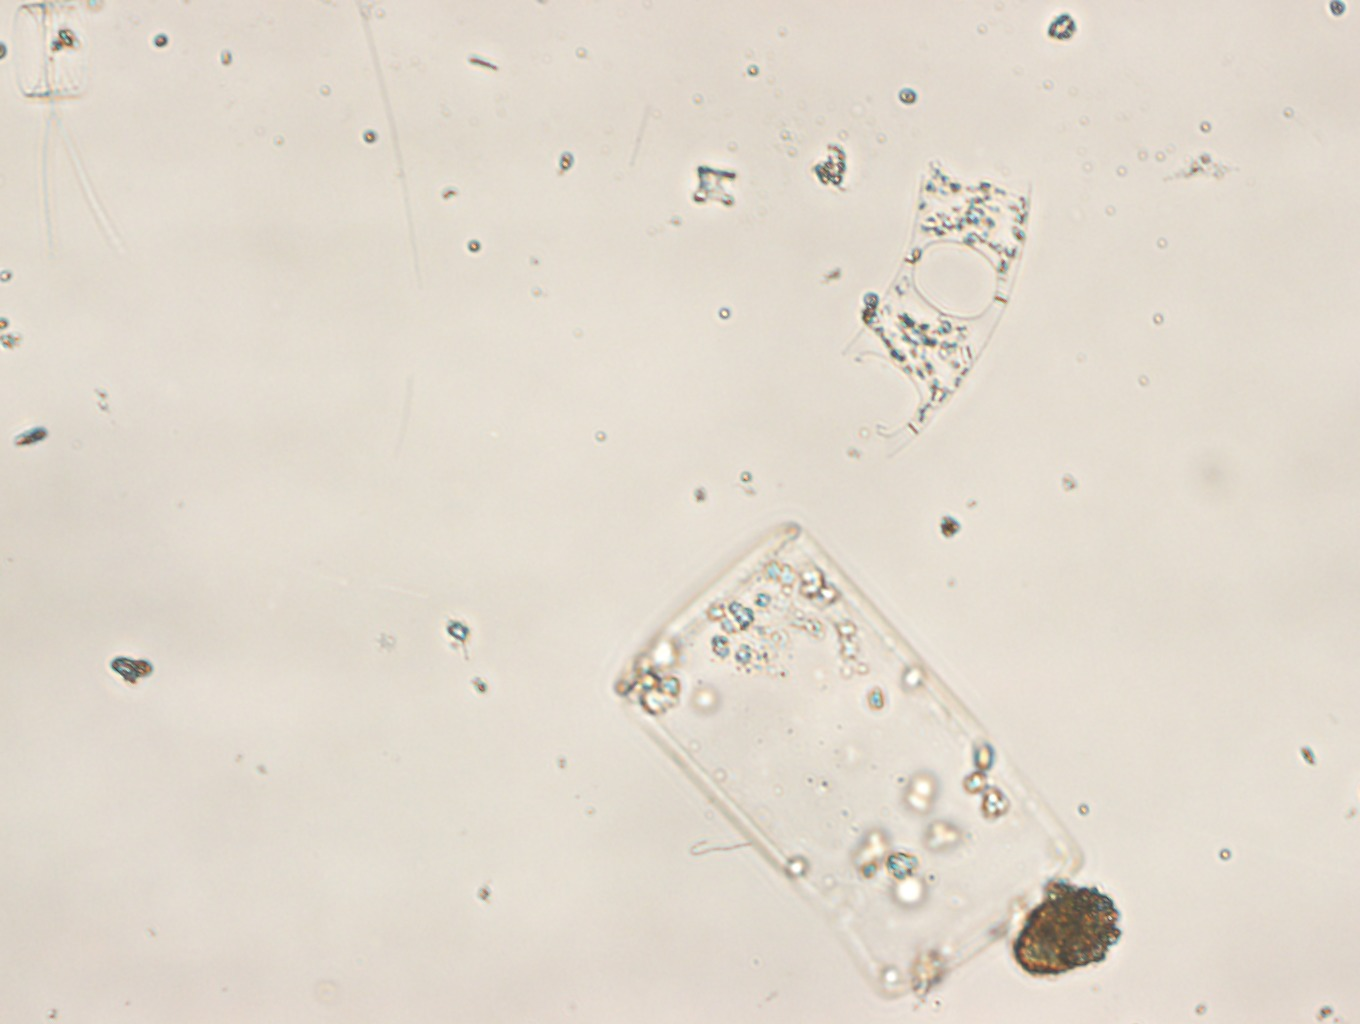eucampia: (847, 162, 1028, 456)
guinardia flaccida: (615, 523, 1085, 1007)
